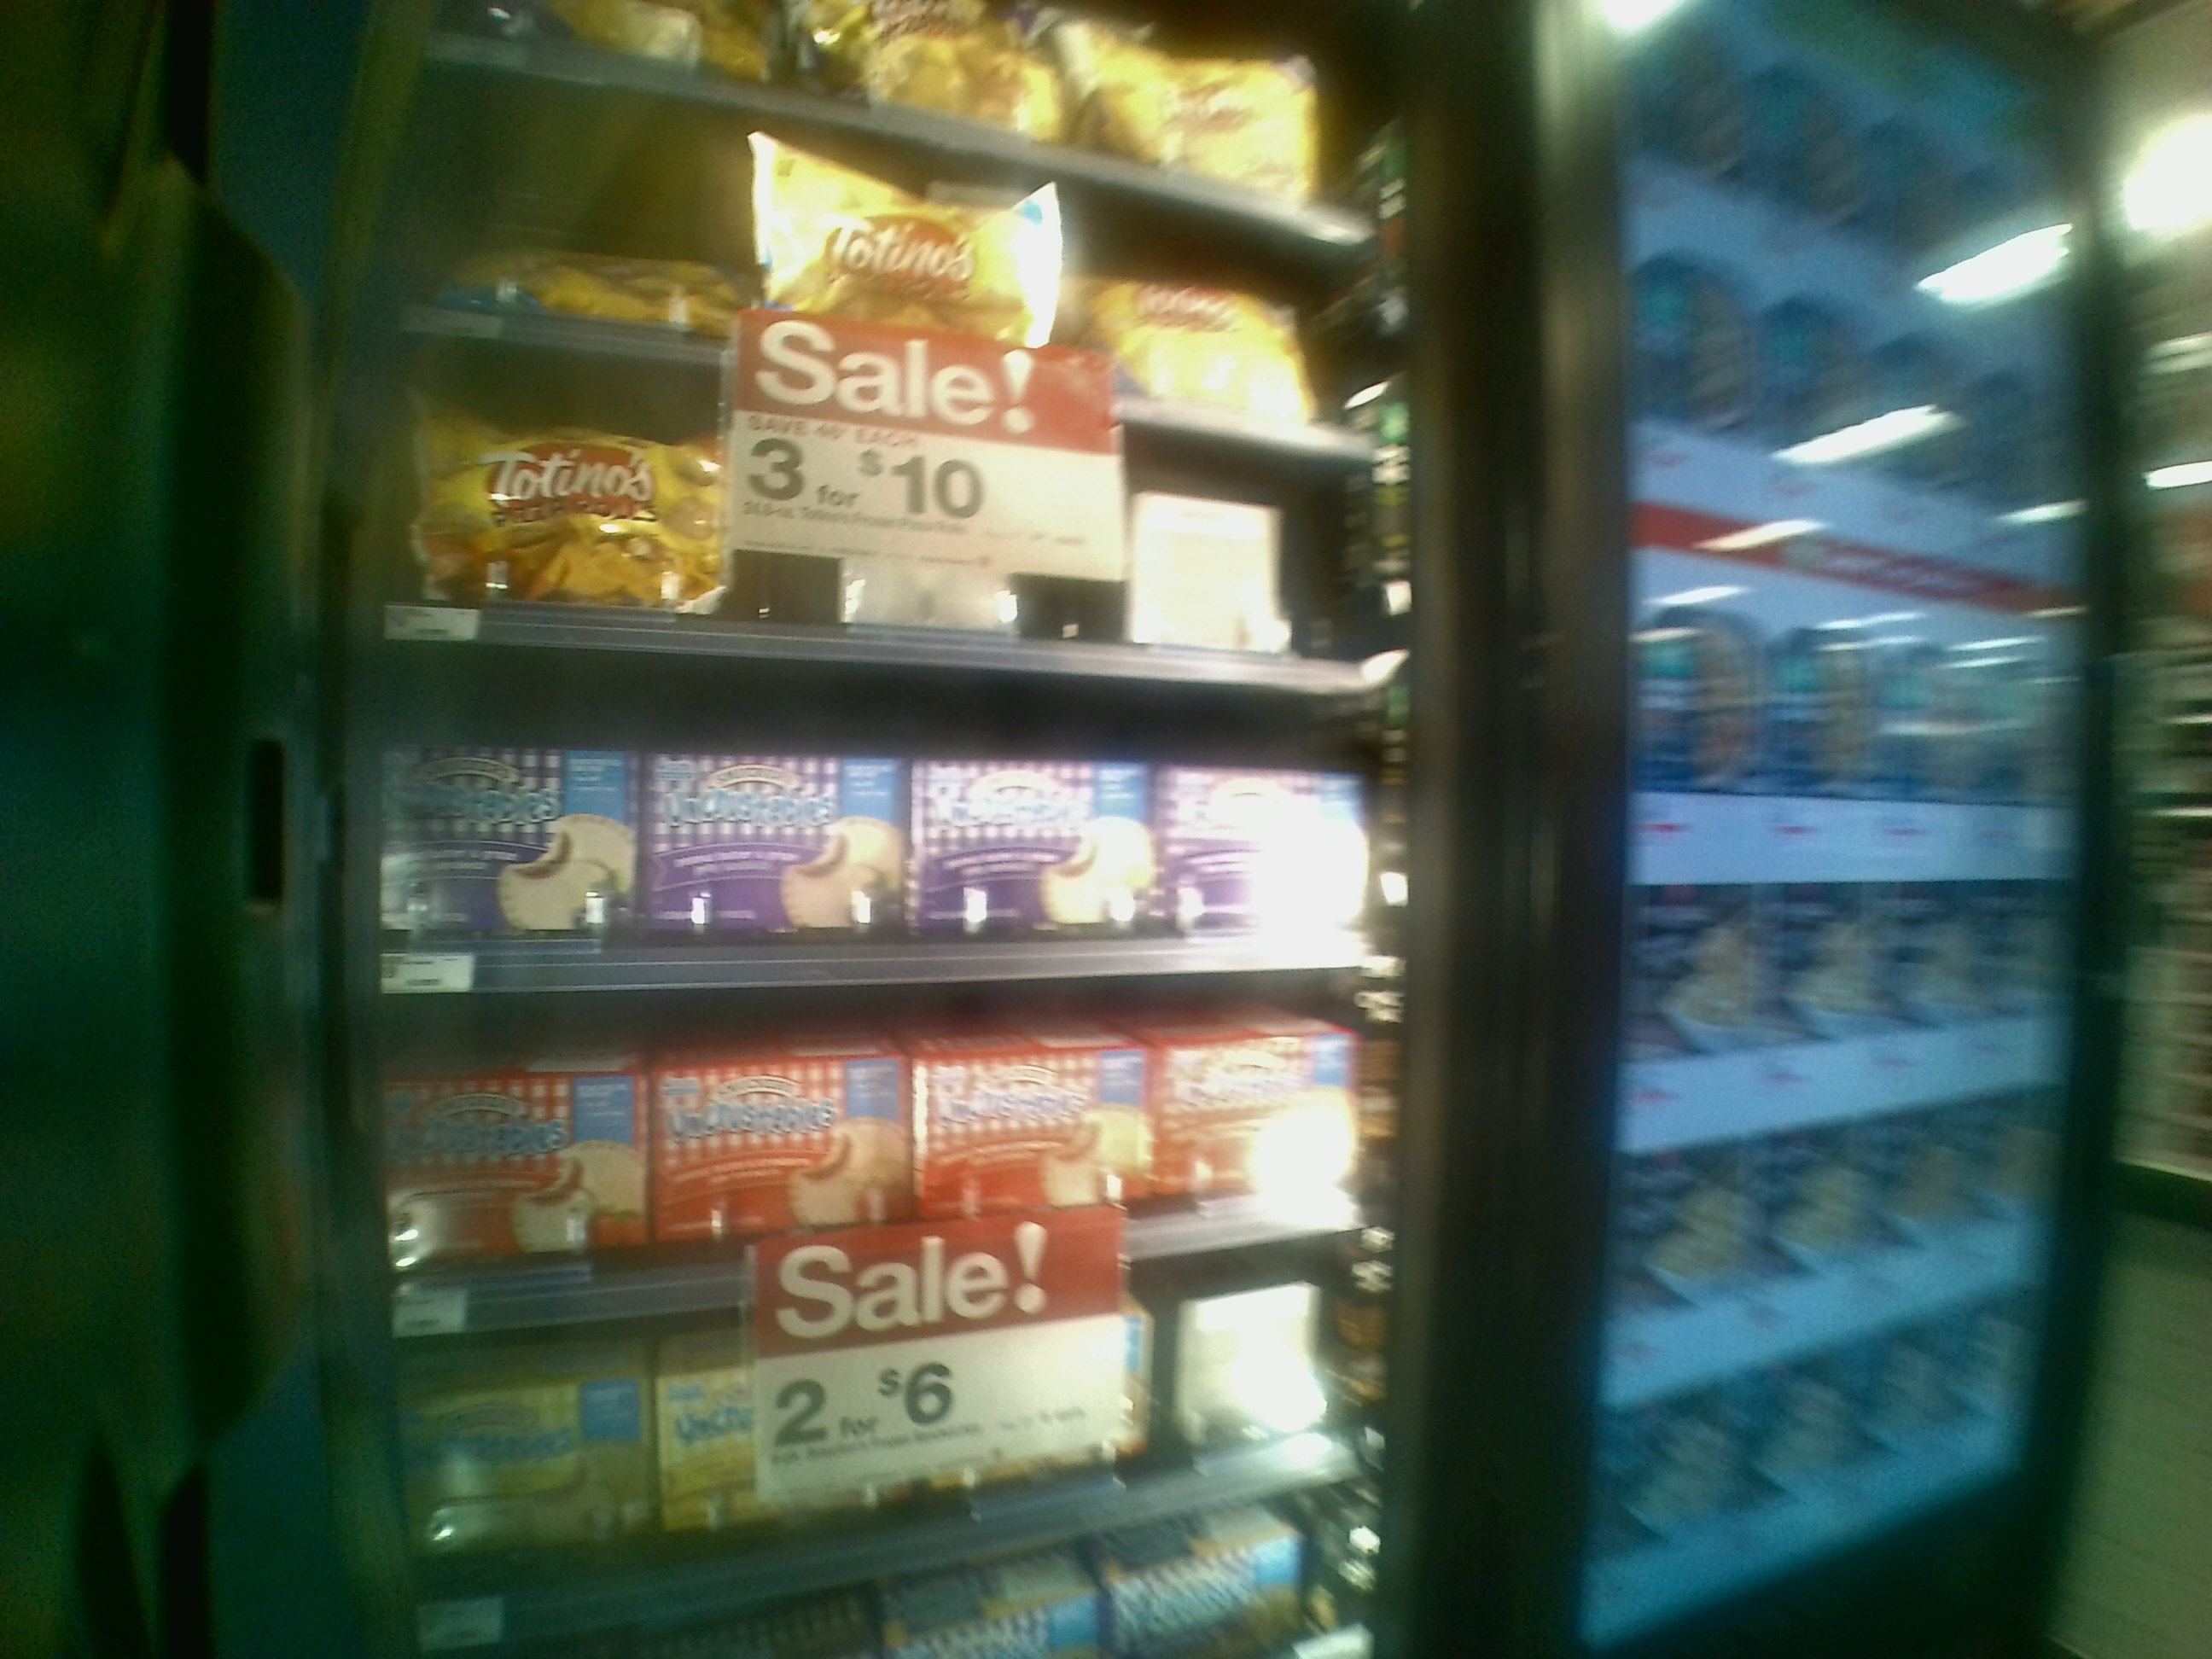shelf: (354, 333, 1388, 701), (364, 650, 1383, 964), (374, 978, 1371, 1283), (397, 1309, 1357, 1614)
